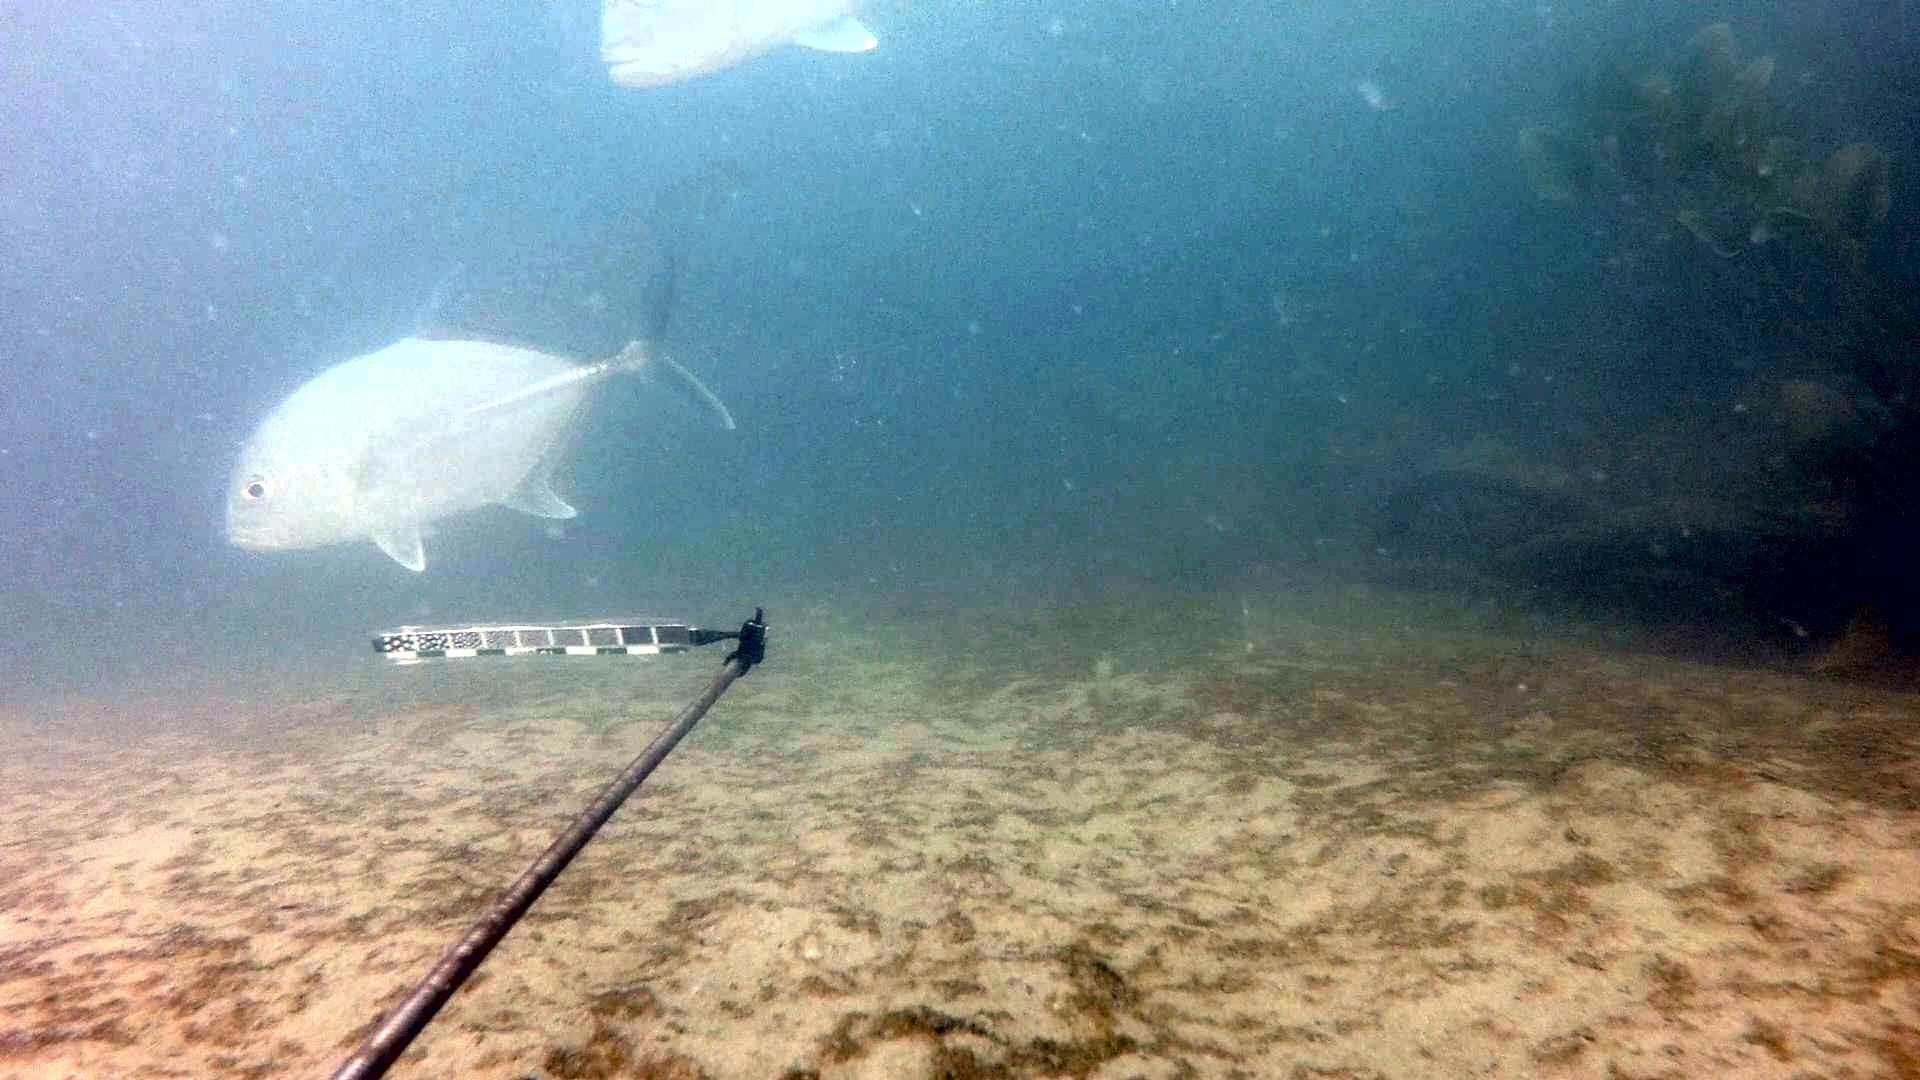caranx: (215, 235, 745, 583), (585, 0, 905, 100)
